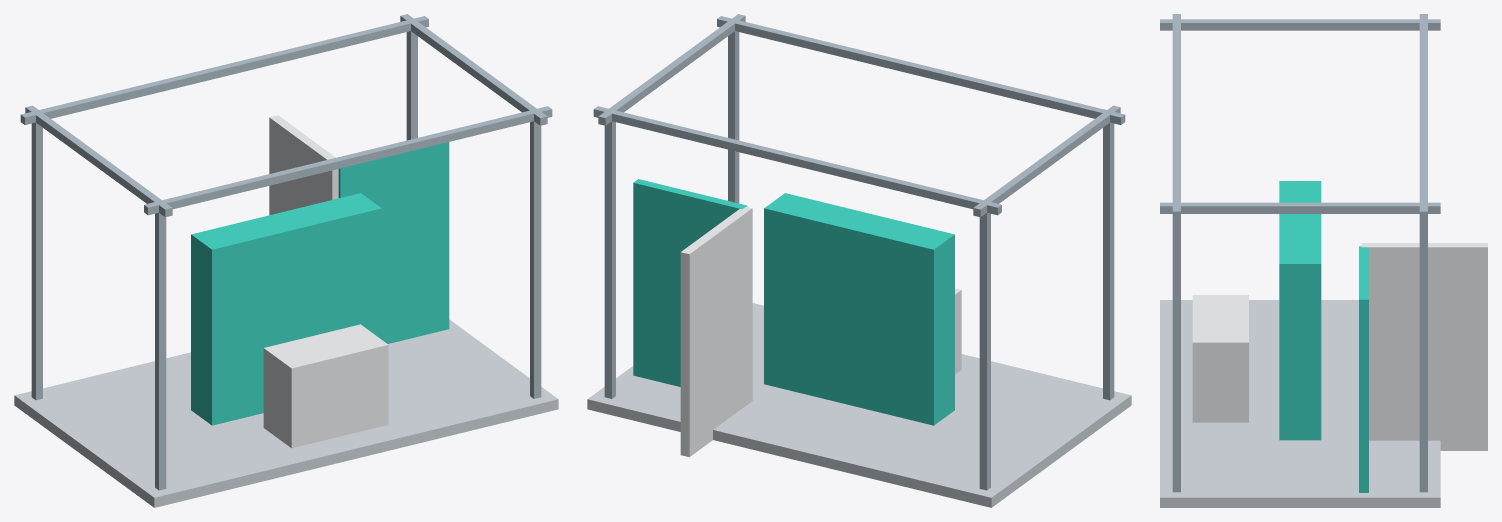
The picture shows the model from 3 angles, left to right: view 1: azimuth 30°, elevation 25°; view 2: azimuth 150°, elevation 25°; view 3: azimuth 270°, elevation 25°; orthographic projection.
Visible parts, largest first — view 1: Exhibition Booth Concept; view 2: Exhibition Booth Concept; view 3: Exhibition Booth Concept.
Part boxes in pixels (x1,y1,x2,y2): Exhibition Booth Concept: [14, 14, 558, 507]; Exhibition Booth Concept: [587, 14, 1131, 507]; Exhibition Booth Concept: [1160, 14, 1487, 507].
Size of the model in its own units: 5 by 3.49 by 3.51.
